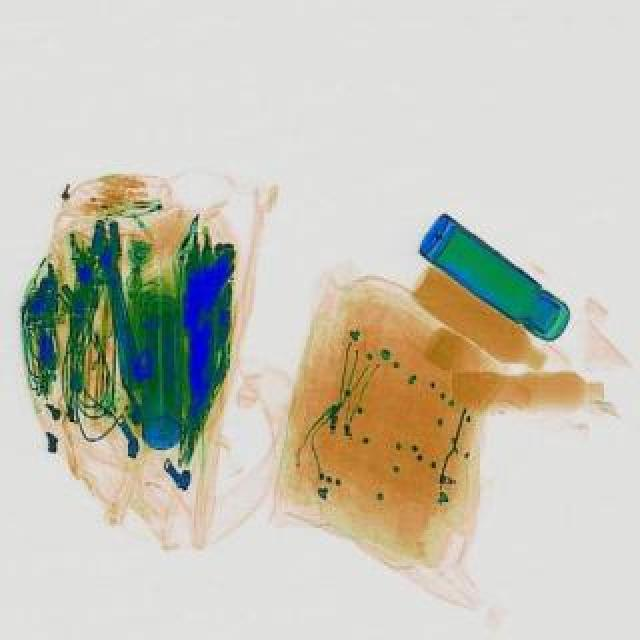scissors: (96, 230, 140, 392)
